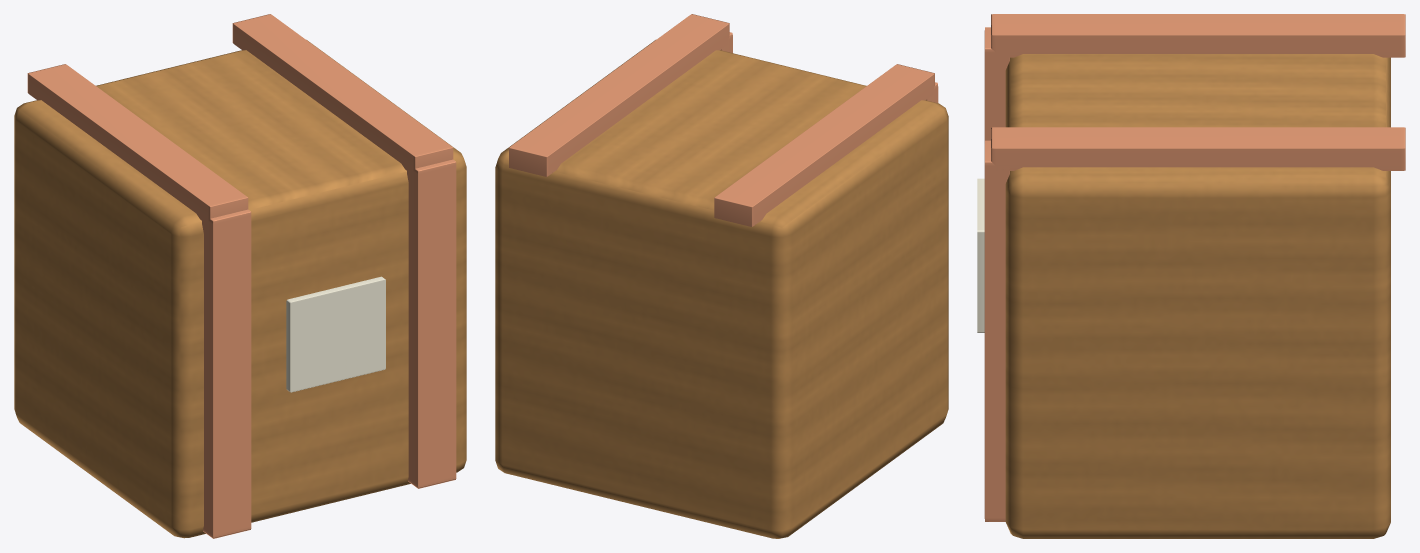
Rendered from crate_1m.glb.
The picture shows the model from 3 angles, left to right: view 1: azimuth 30°, elevation 25°; view 2: azimuth 150°, elevation 25°; view 3: azimuth 270°, elevation 25°; orthographic projection. The views are drawn at different scales.
Visible parts, largest first — view 1: Crate body, Face strap.001, Face strap, Top strap, Top strap.001, Crate label; view 2: Crate body, Top strap, Top strap.001; view 3: Crate body, Top strap.001, Top strap, Face strap.001, Face strap, Crate label.
Boxes of the visible parts, <box> form: Crate body: <box>14,40,466,538</box>; Face strap.001: <box>407,159,456,488</box>; Face strap: <box>202,209,251,538</box>; Top strap: <box>27,64,248,223</box>; Top strap.001: <box>232,14,453,170</box>; Crate label: <box>286,276,385,392</box>; Crate body: <box>495,40,948,538</box>; Top strap: <box>714,64,934,226</box>; Top strap.001: <box>509,14,729,176</box>; Crate body: <box>1005,54,1390,538</box>; Top strap.001: <box>991,127,1405,170</box>; Top strap: <box>991,14,1405,57</box>; Face strap.001: <box>984,140,1009,521</box>; Face strap: <box>984,27,1009,143</box>; Crate label: <box>977,178,984,332</box>.
Bounding box in the file's own units: 0.92 × 1.01 × 1.02.
3 materials, 1 textured.
